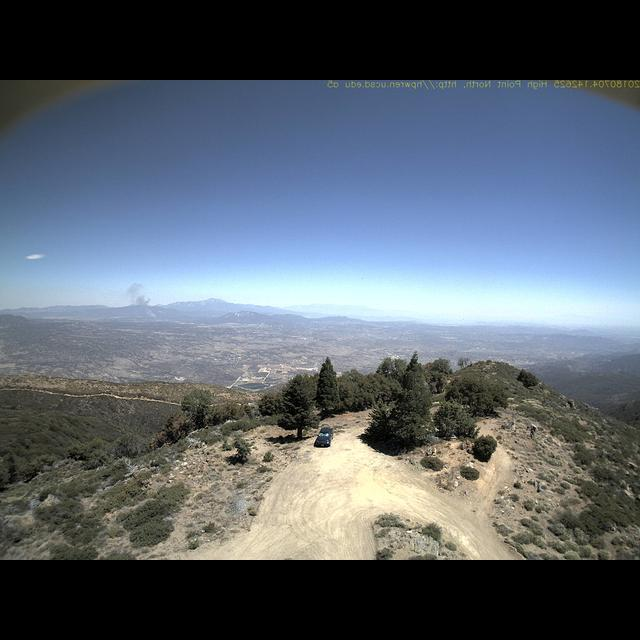Smoke: (127, 278, 167, 323)
